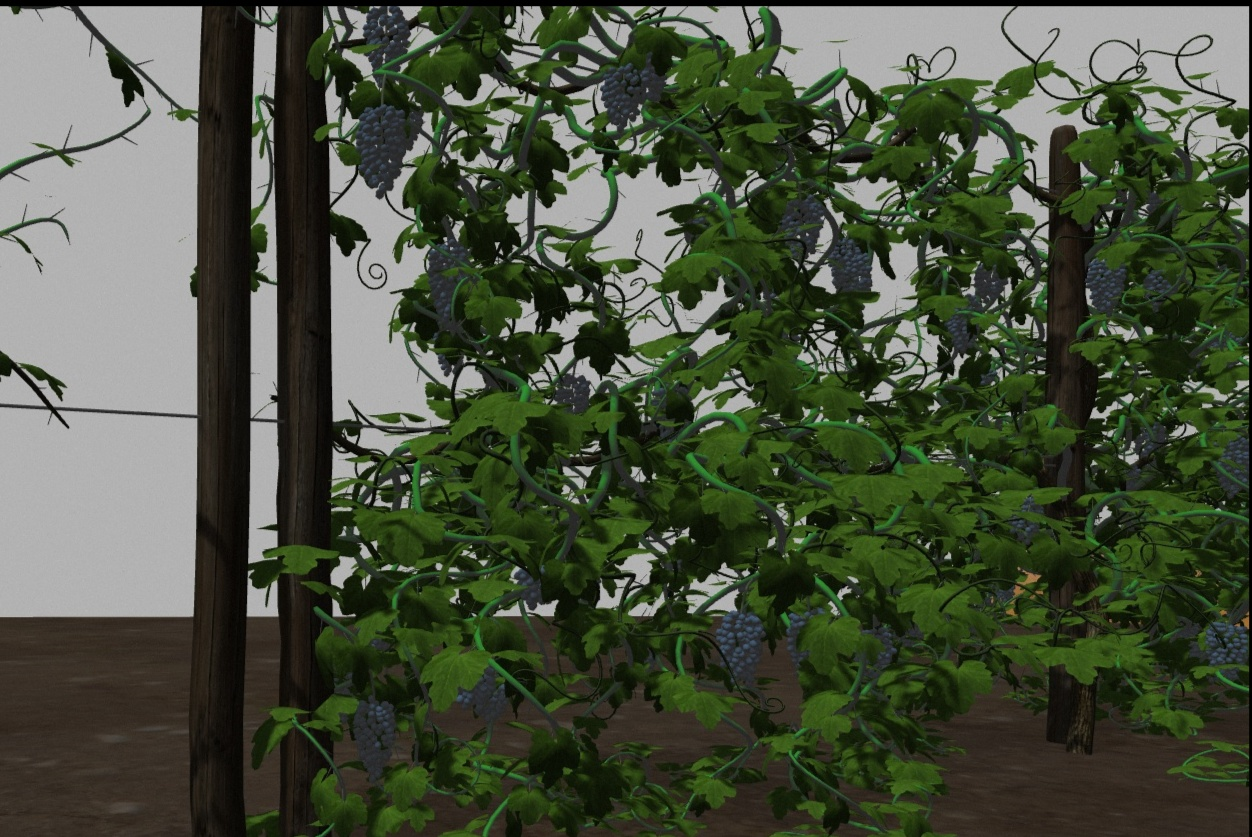grape: (352, 103, 407, 198), (424, 237, 471, 328), (716, 613, 768, 690), (362, 8, 411, 85), (353, 697, 397, 780), (776, 193, 824, 262), (455, 666, 507, 724), (829, 238, 876, 294), (946, 295, 985, 361), (1086, 255, 1127, 317), (601, 63, 637, 128), (1203, 622, 1247, 673), (1217, 439, 1247, 500), (973, 258, 1008, 307), (554, 373, 591, 418), (632, 58, 668, 103)
